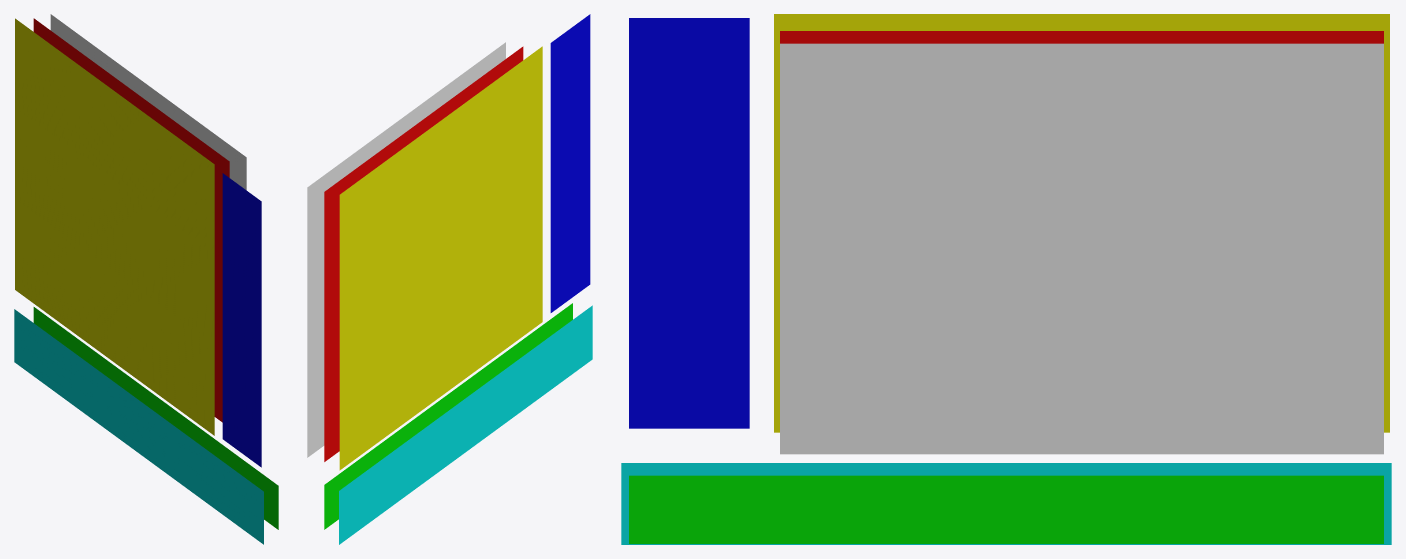
File: ColorPicker.dae
The picture shows the model from 3 angles, left to right: view 1: azimuth 30°, elevation 25°; view 2: azimuth 150°, elevation 25°; view 3: azimuth 270°, elevation 25°; orthographic projection. The views are drawn at different scales.
Visible parts, largest first — view 1: Object; view 2: Object; view 3: Object.
Part boxes in pixels (box(x1,y1,x2,y2)): Object: box(14, 14, 278, 544); Object: box(307, 14, 592, 544); Object: box(621, 14, 1391, 544).
Bounding box in the file's own units: 0.04 × 0.51 × 0.388.
